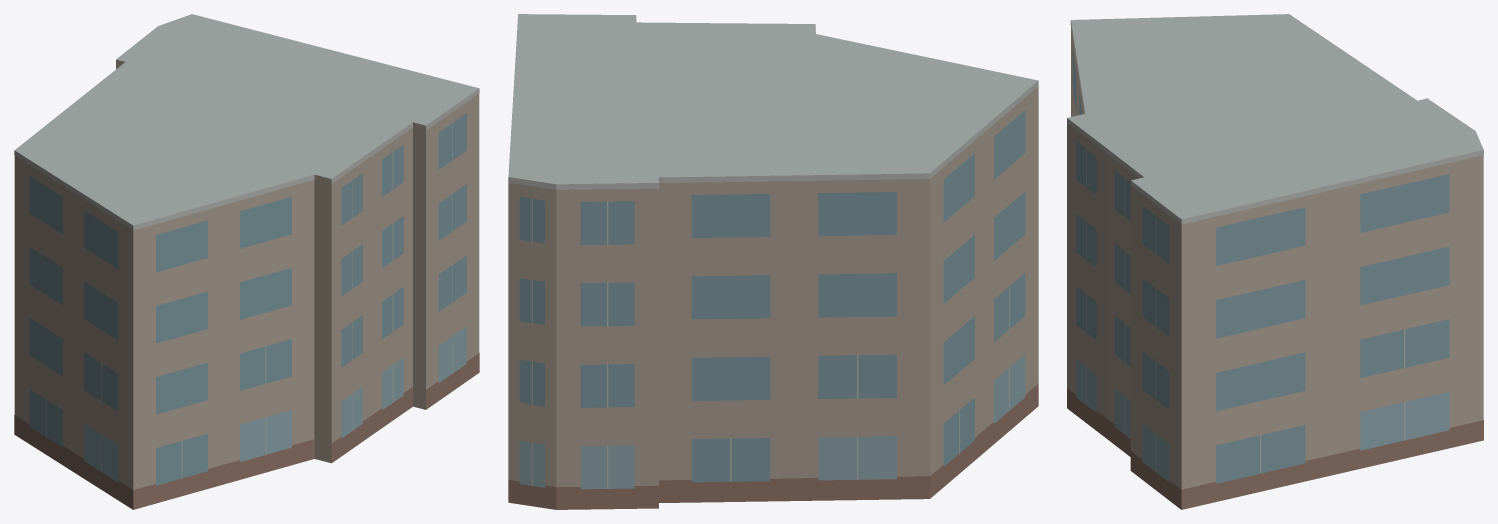
File: survey-upis-32912948.glb
3 views of the same model, side by side, from view 1: azimuth 30°, elevation 25°; view 2: azimuth 150°, elevation 25°; view 3: azimuth 270°, elevation 25° (orthographic). The views are drawn at different scales.
Parts seen in each view (by area): view 1: survey-upis-32912948.tmp; view 2: survey-upis-32912948.tmp; view 3: survey-upis-32912948.tmp.
Part boxes in pixels (x1,y1,x2,y2): survey-upis-32912948.tmp: (14,14,479,509); survey-upis-32912948.tmp: (508,14,1038,509); survey-upis-32912948.tmp: (1067,14,1483,509).
Bounding box in the file's own units: 21.26 × 14 × 18.22.
